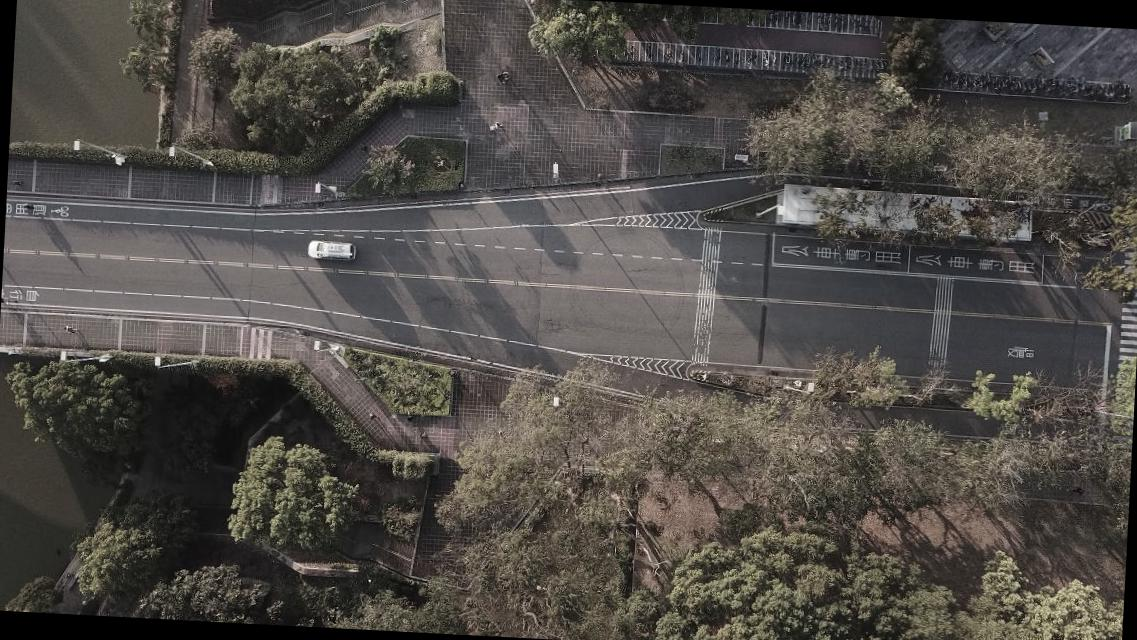vehicle: (307, 240, 355, 260)
